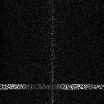wifi: (1, 83, 104, 89)
